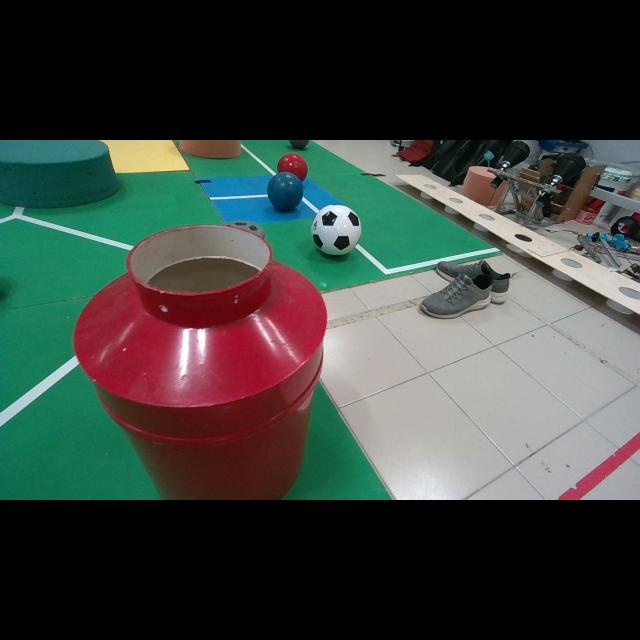B: (268, 172, 304, 212)
R: (278, 152, 308, 181)
